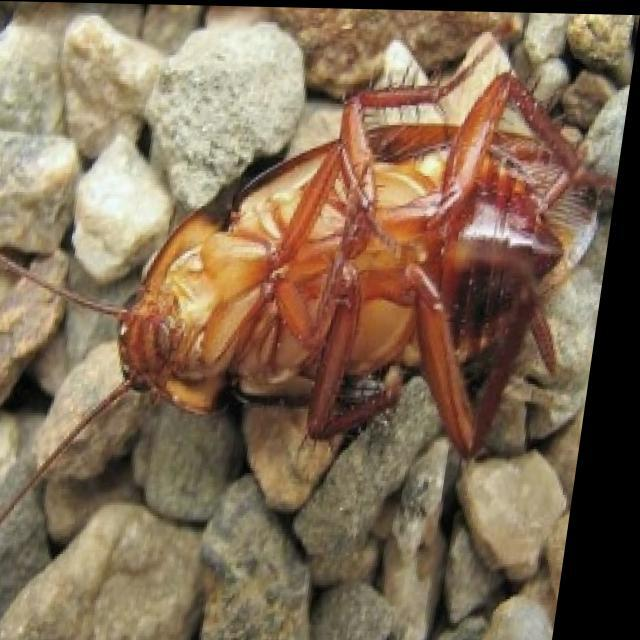cockroach: (3, 33, 614, 531)
